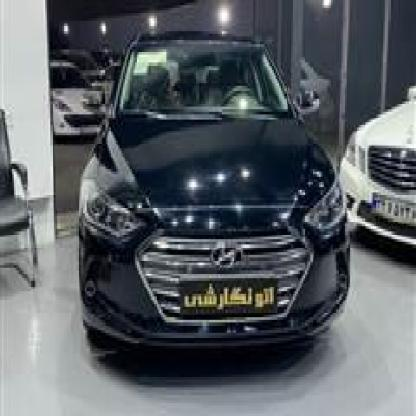Car: (69, 39, 359, 398), (313, 75, 416, 252), (14, 34, 113, 164)
